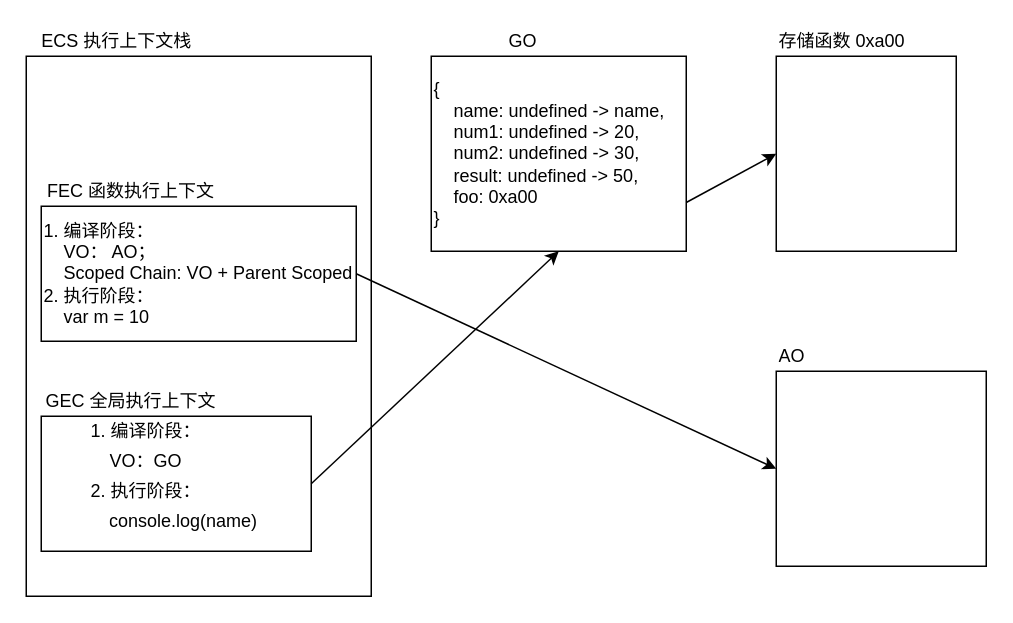
Image size: 1013x623. Some labels were removed from this diagram. The shapes that lost their labels are listed below. From the top down, each one's centre as x and y in pixels, then its label:
the point at 865,153: 1. 父级作用域（scoped） 2. 执行的代码块
the point at 880,468: { num: undefined m: undefined -> 10 }
